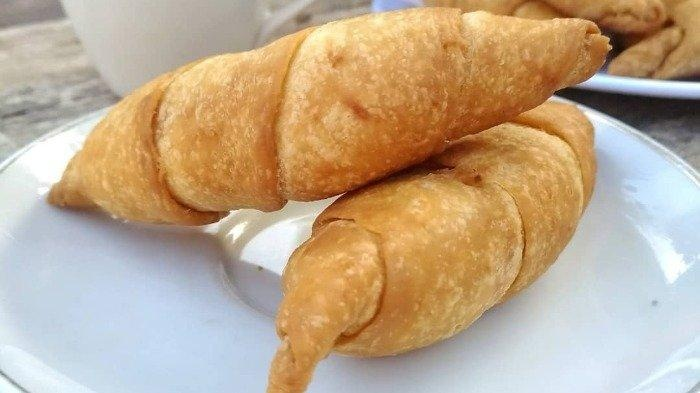pisang_molen: (48, 6, 611, 228), (265, 102, 596, 392)
